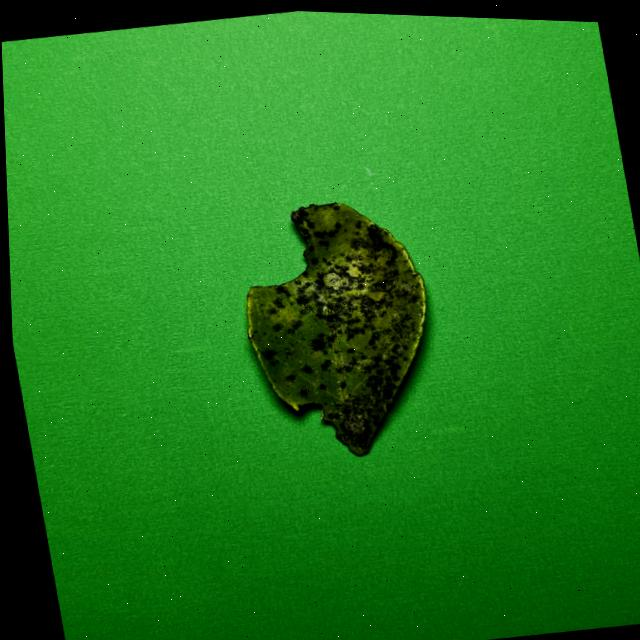sooty_mold: (248, 203, 425, 455)
